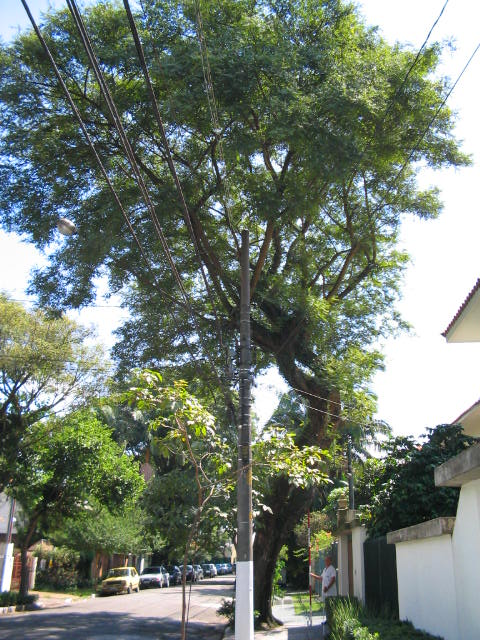crown: (4, 1, 480, 359), (4, 412, 148, 527)
stem: (232, 511, 302, 630), (11, 549, 41, 597)
stick: (300, 507, 318, 633)
tree: (1, 2, 480, 630), (2, 410, 149, 601)
